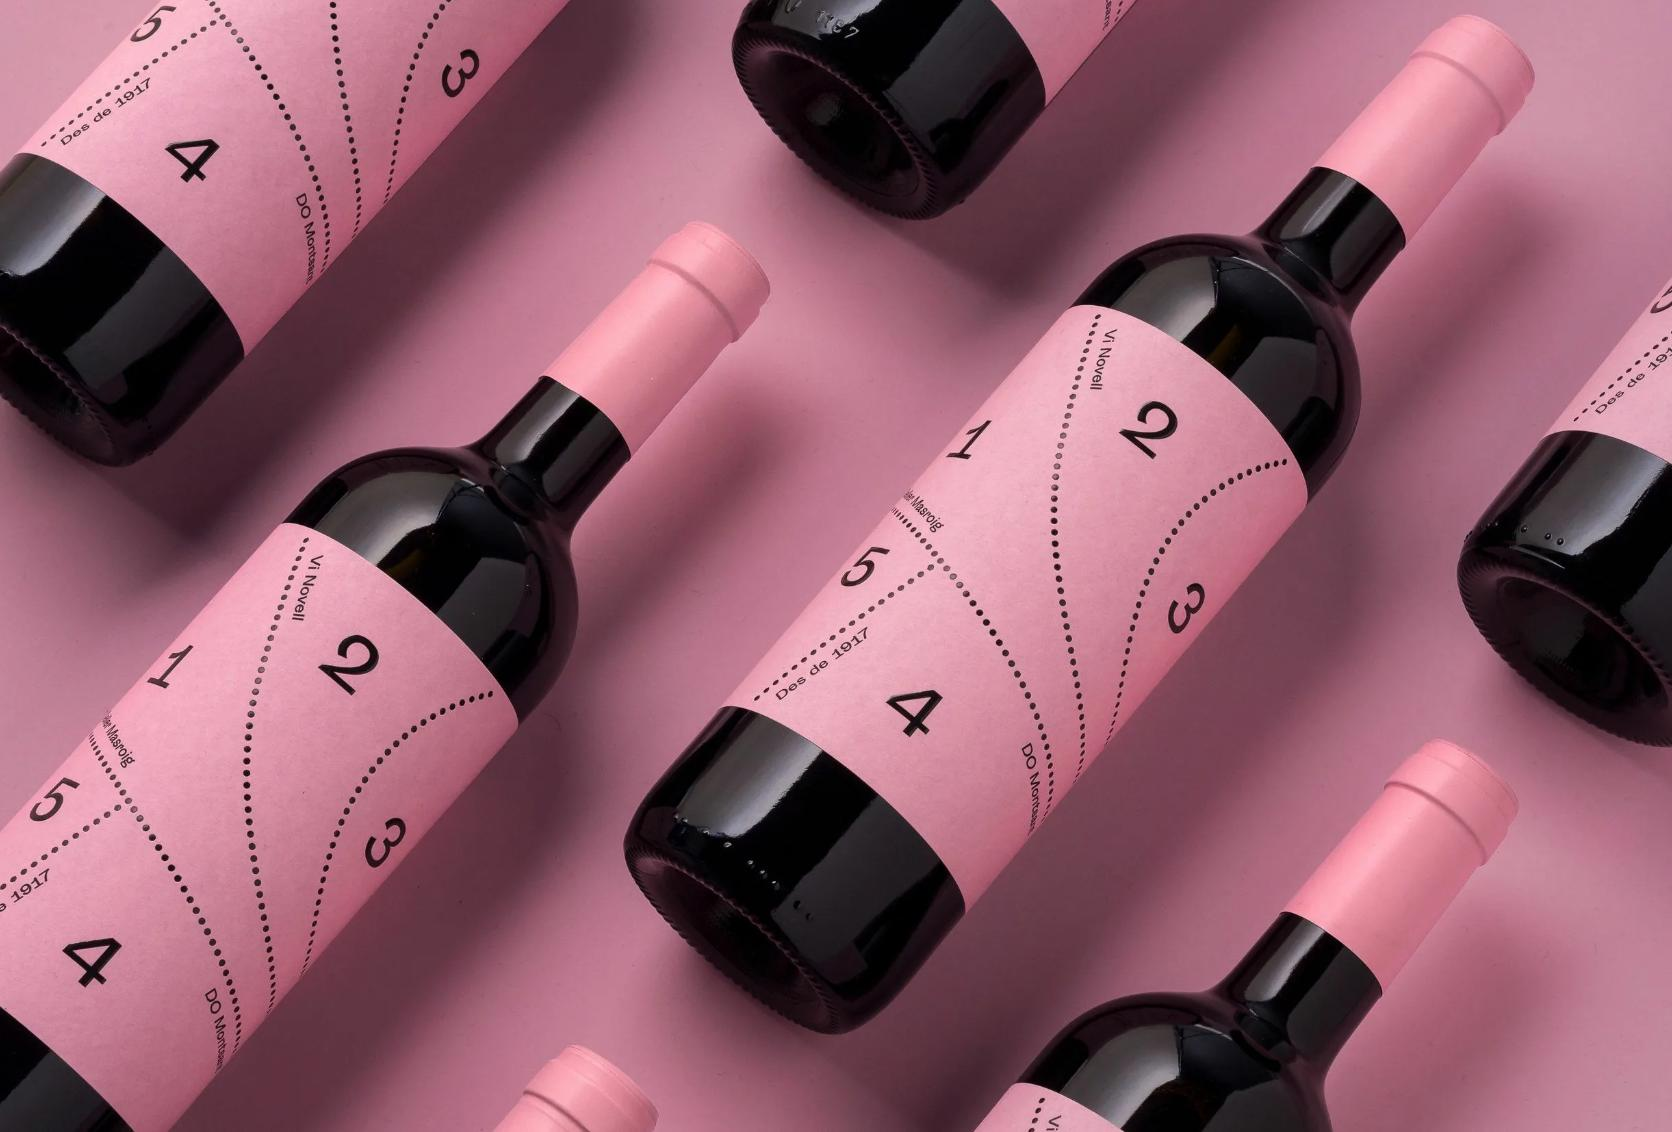wine bottle: (624, 15, 1537, 1032), (0, 224, 773, 1132), (966, 737, 1524, 1131), (1454, 265, 1672, 749), (729, 0, 1138, 221), (500, 1044, 662, 1132)
wine label: (720, 303, 1310, 911), (0, 522, 522, 1132), (23, 0, 571, 355), (1542, 272, 1672, 465), (974, 1079, 1125, 1132)
